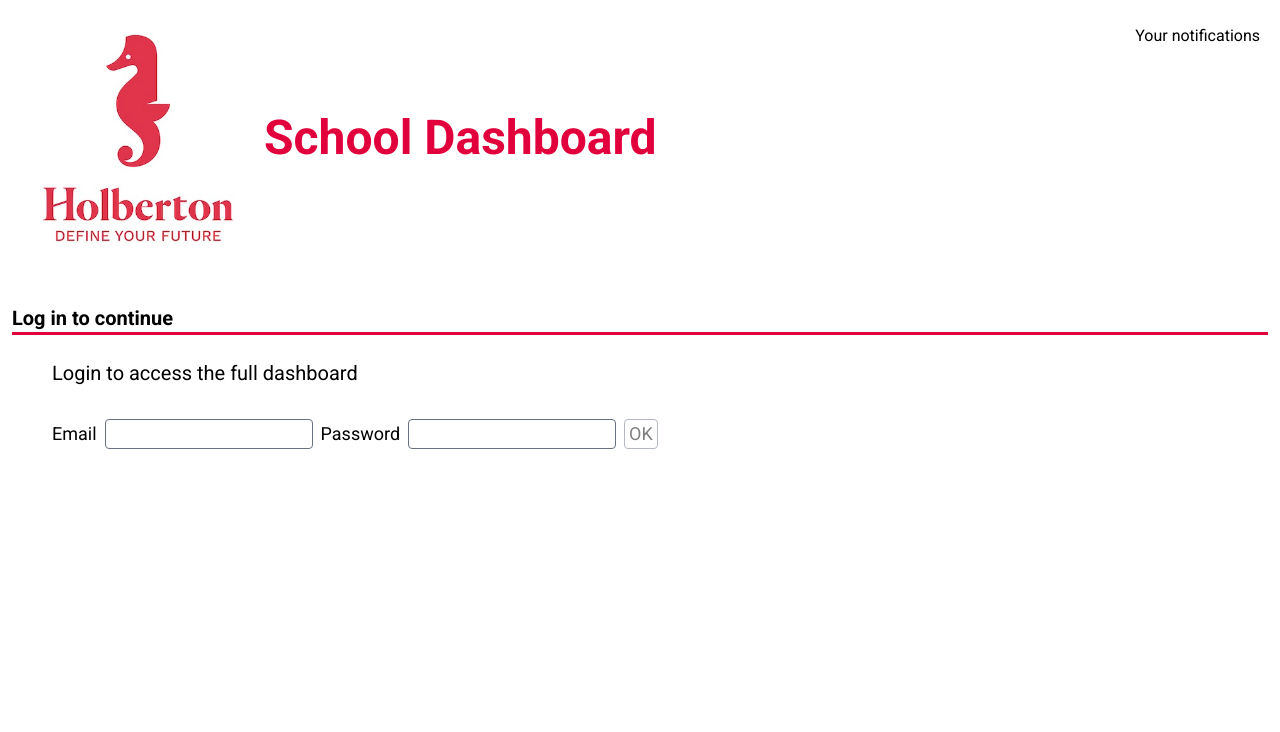
Test: App › when control and h are pressed › logs the user out
The width and height of the screenshot is (1280, 732).
In the field labelled "Email": coordinates (209, 434) [105, 419, 313, 449], type "test@example.com"
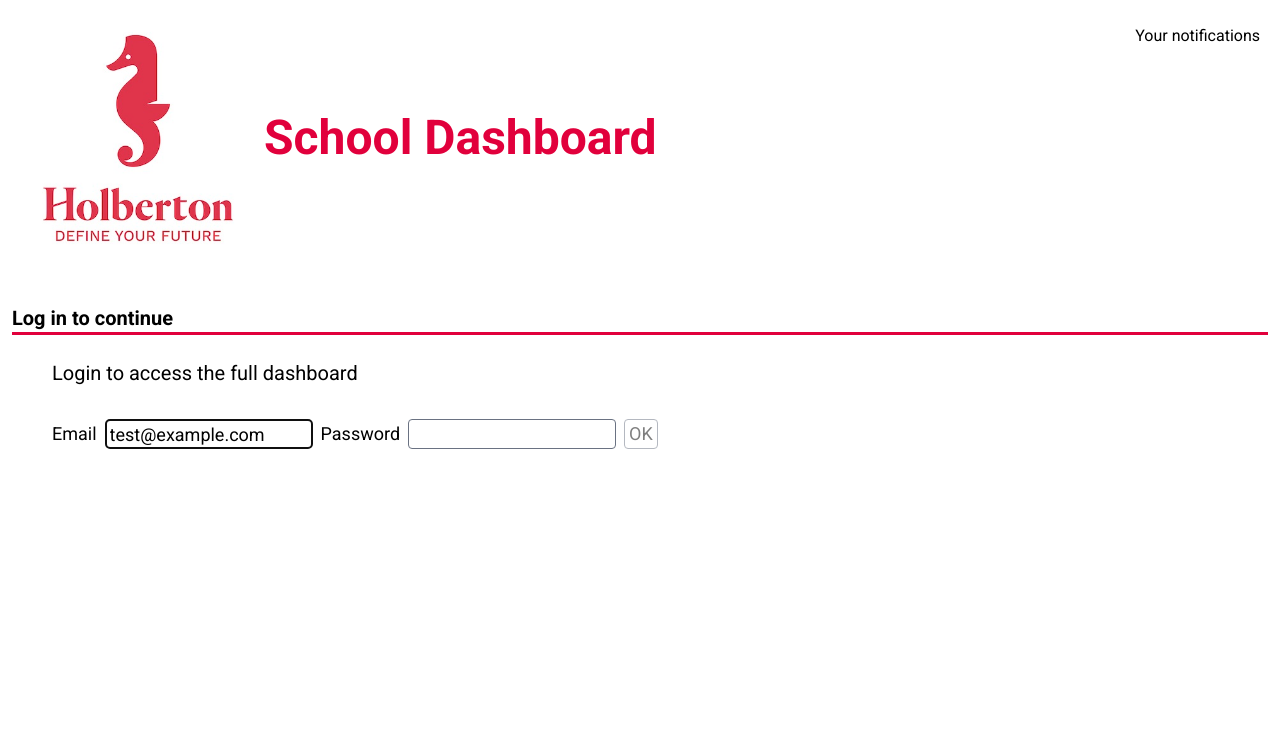
In the password field labelled "Password": coordinates (512, 434) [408, 419, 616, 449], type "password123"
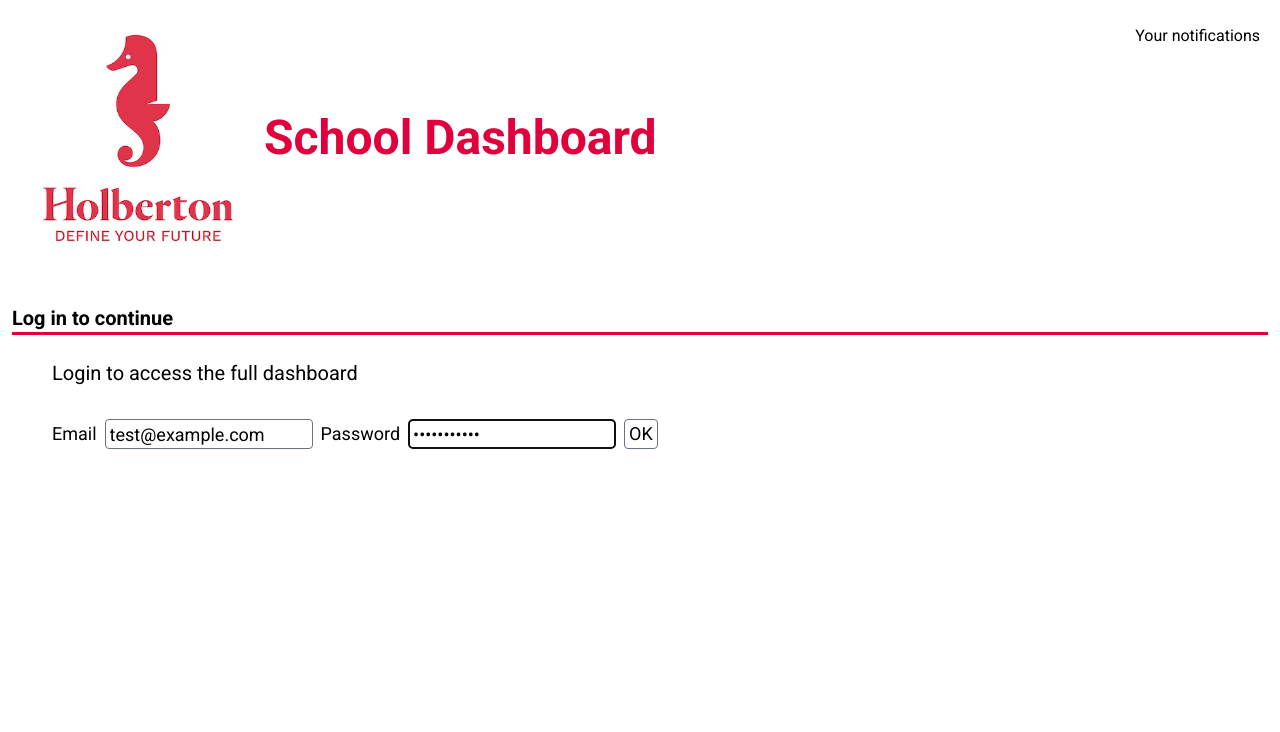
Click the button "OK": coordinates (641, 434) [624, 419, 658, 449]
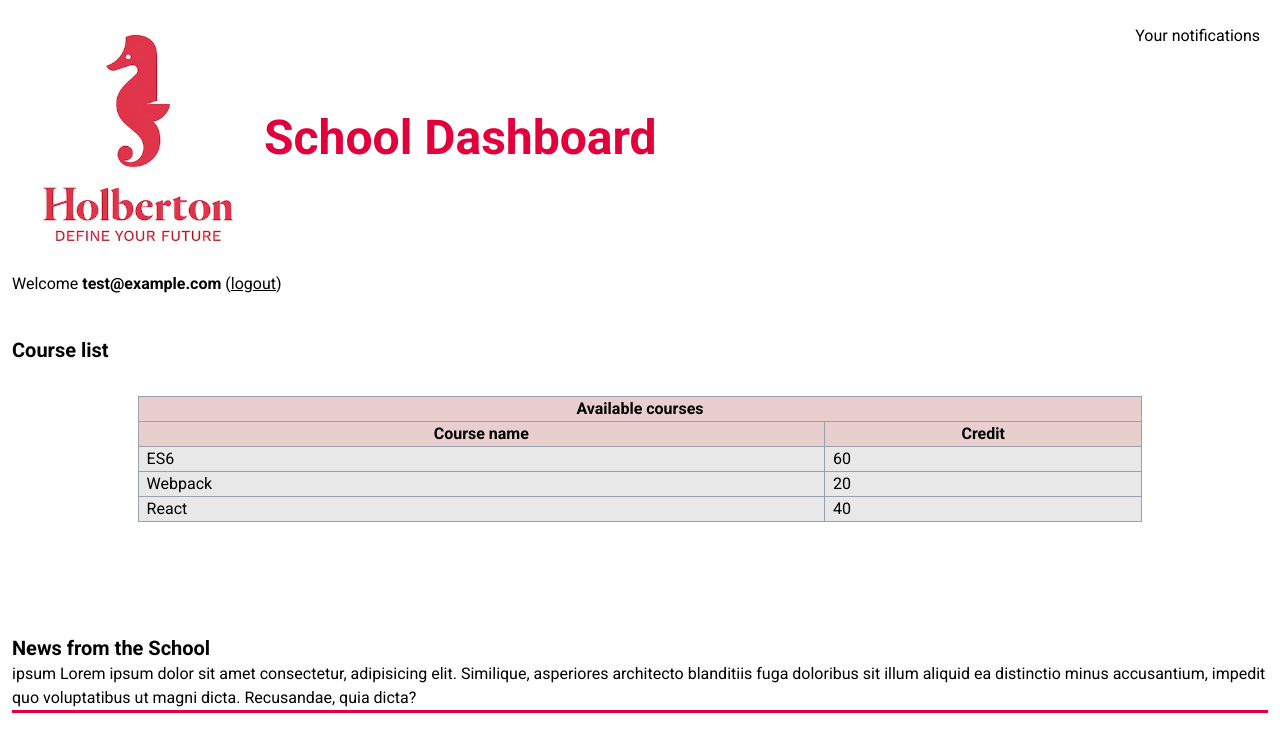
Expected: the table with id "CourseList" is shown, [138, 396, 1142, 522]
Press h
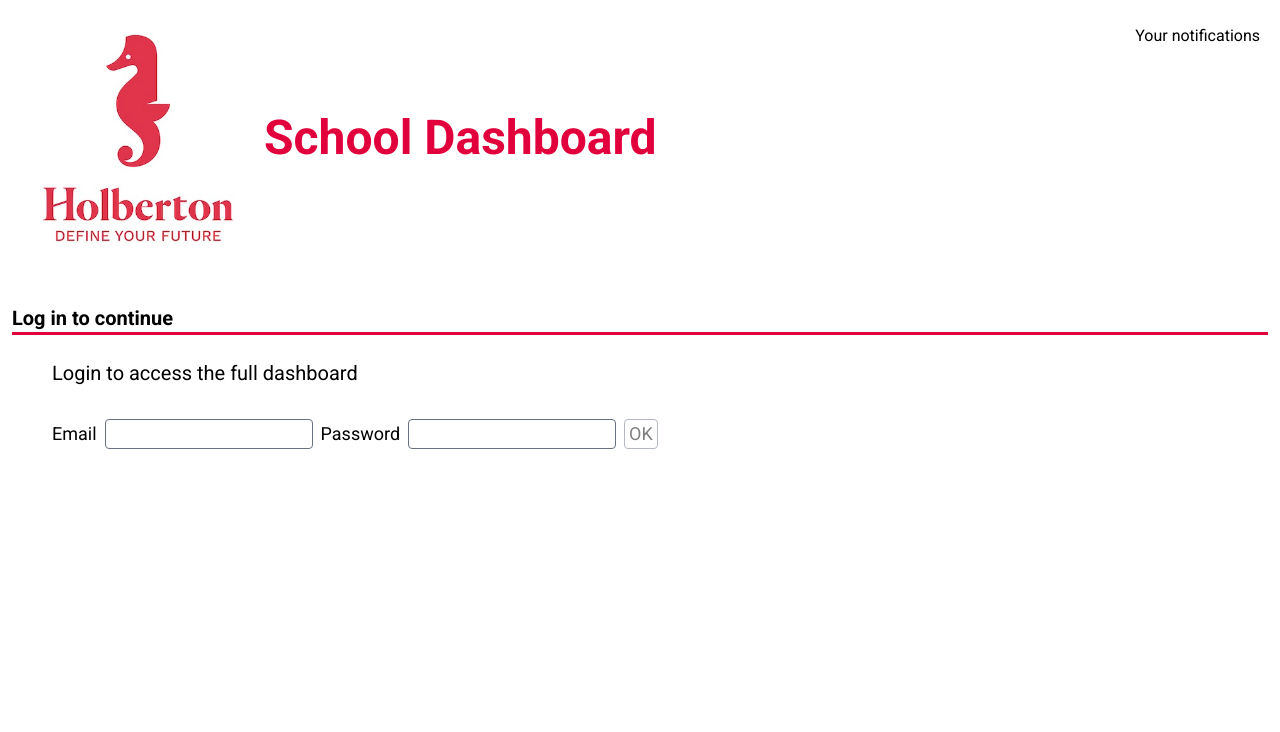
Expected: the table with id "CourseList" is gone
Expected: the text "Login to access the full dashboard" is shown, [52, 361, 358, 385]
